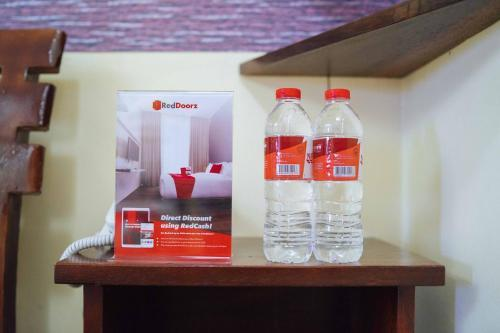plastic_bottle: (259, 83, 318, 266), (313, 83, 369, 266)
